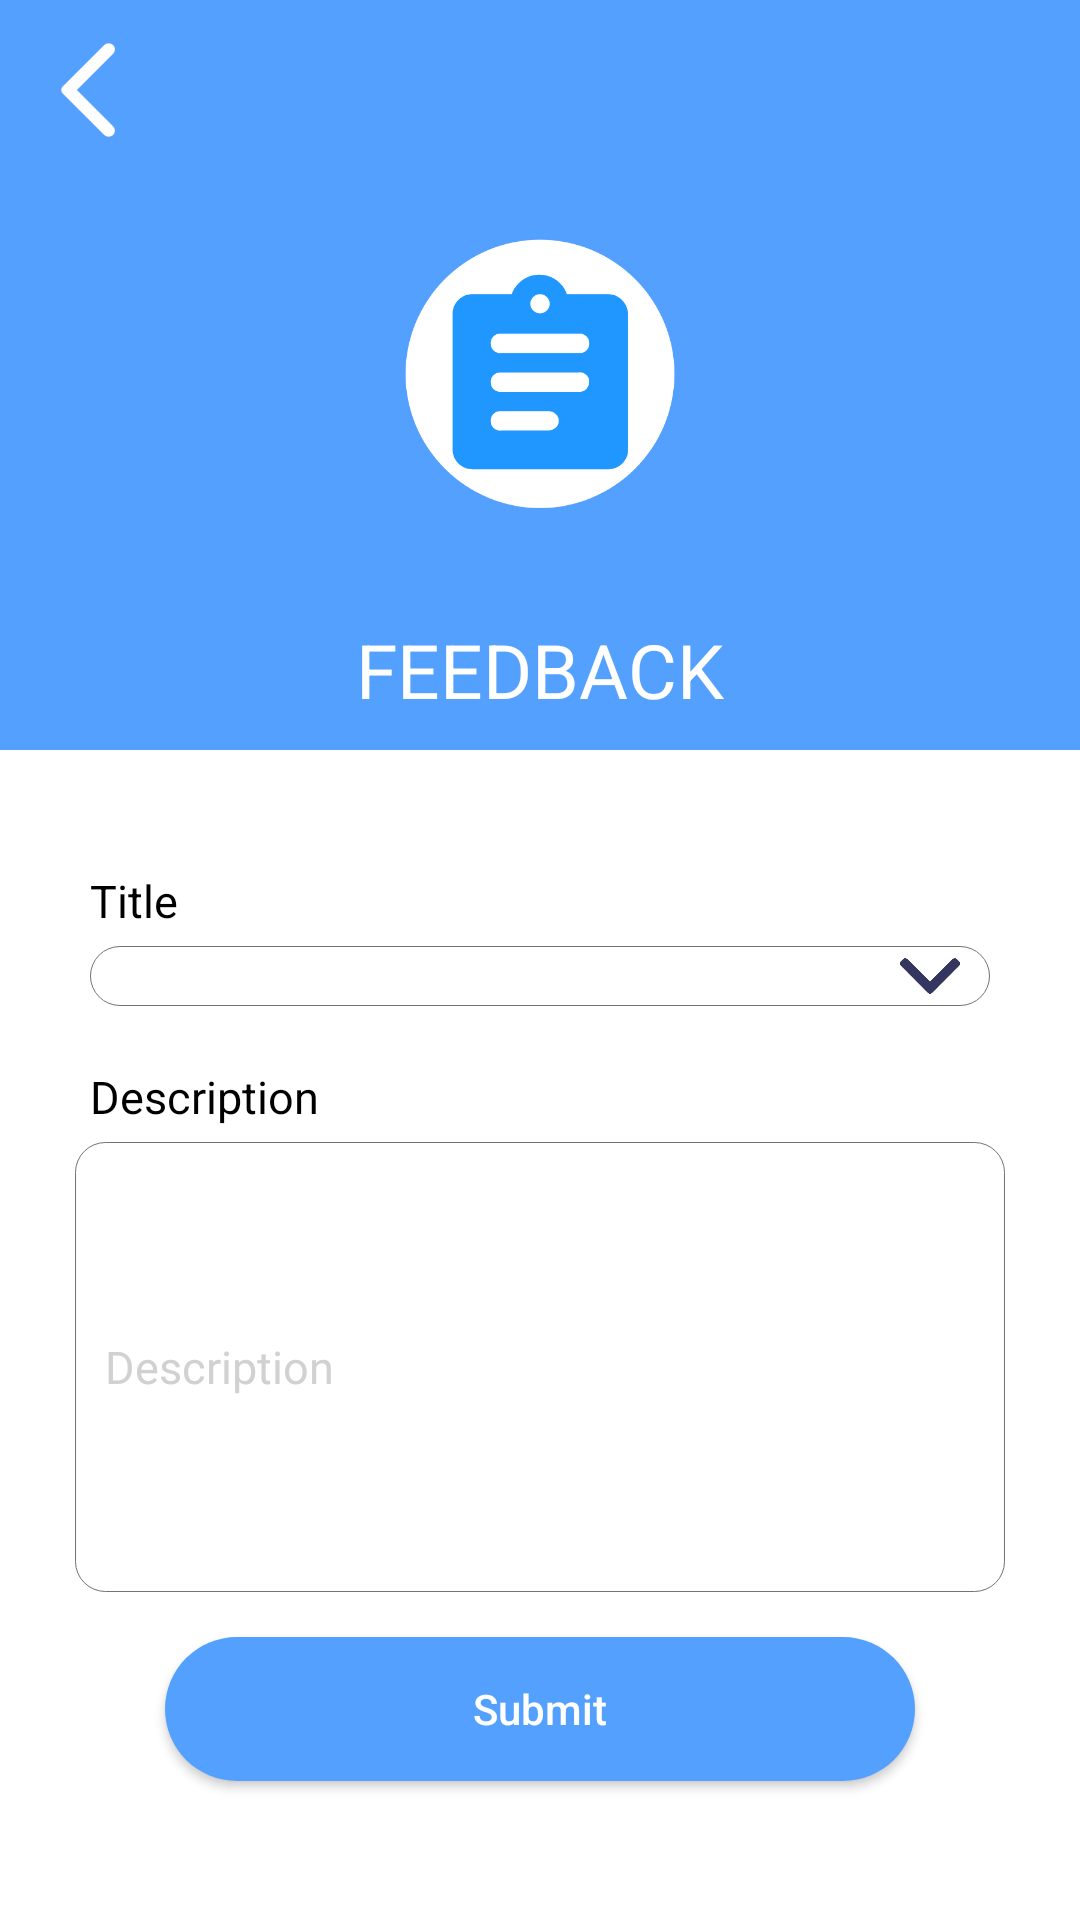

Point at icon controls on the screen. Image size 1080x1920, points as point (x, y).
arrow back: point (88, 90)
down arrow: point (930, 976)
logs: point (540, 373)
